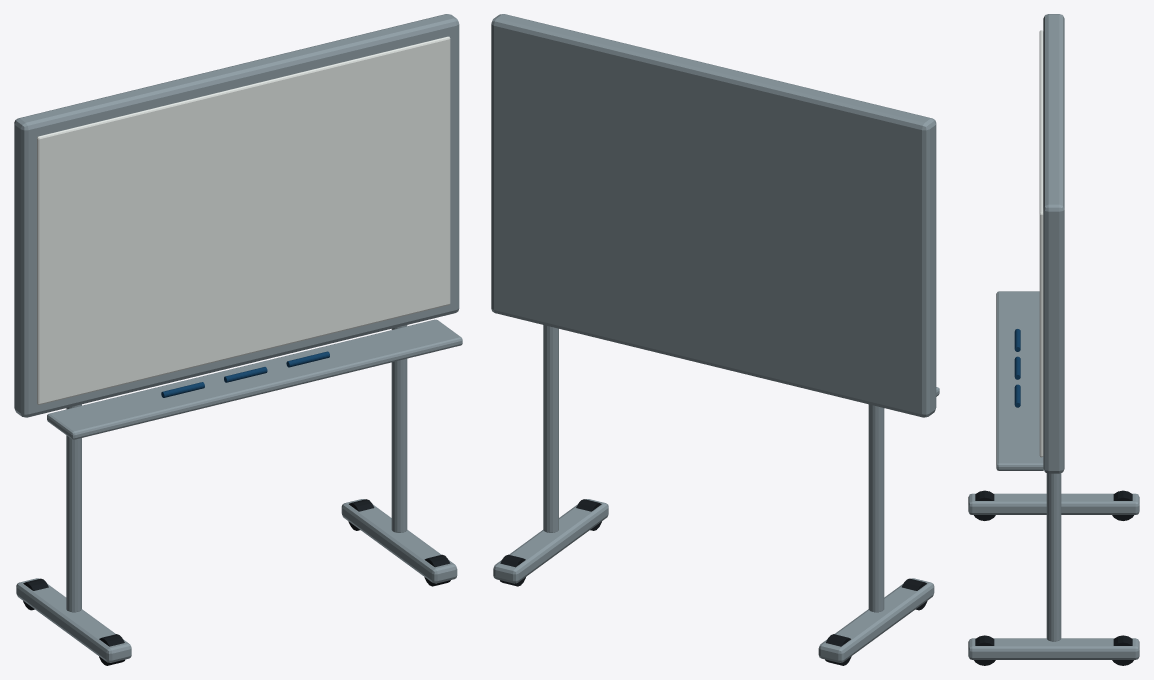
The picture shows the model from 3 angles, left to right: view 1: azimuth 30°, elevation 25°; view 2: azimuth 150°, elevation 25°; view 3: azimuth 270°, elevation 25°; orthographic projection. The views are drawn at different scales.
Visible parts, largest first — view 1: BOARD_Surface, BOARD_Frame, MARKER_Tray, FOOT, FOOT.001, STAND_Upright.001, STAND_Upright; view 2: BOARD_Frame, STAND_Upright, STAND_Upright.001, FOOT, FOOT.001; view 3: BOARD_Frame, MARKER_Tray, FOOT.001, FOOT, STAND_Upright.001, BOARD_Surface, CASTER.001, CASTER.002, CASTER, CASTER.003.
Part boxes in pixels (x1,y1,x2,y2): BOARD_Surface: (37,36,450,404); BOARD_Frame: (14,14,459,417); MARKER_Tray: (47,319,462,439); FOOT: (16,578,131,662); FOOT.001: (341,499,457,583); STAND_Upright.001: (391,325,407,532); STAND_Upright: (66,404,81,612); BOARD_Frame: (491,14,936,417); STAND_Upright: (868,404,884,612); STAND_Upright.001: (543,325,558,532); FOOT: (818,578,934,662); FOOT.001: (493,499,608,583); BOARD_Frame: (1043,14,1064,473); MARKER_Tray: (996,291,1043,470); FOOT.001: (968,638,1139,659); FOOT: (968,493,1139,514); STAND_Upright.001: (1046,473,1061,641); BOARD_Surface: (1039,30,1043,457); CASTER.001: (974,490,995,520); CASTER.002: (1112,490,1133,520); CASTER: (1112,635,1133,665); CASTER.003: (974,635,995,665).
Size of the model in its own units: 1.4 by 1.61 by 0.52.
